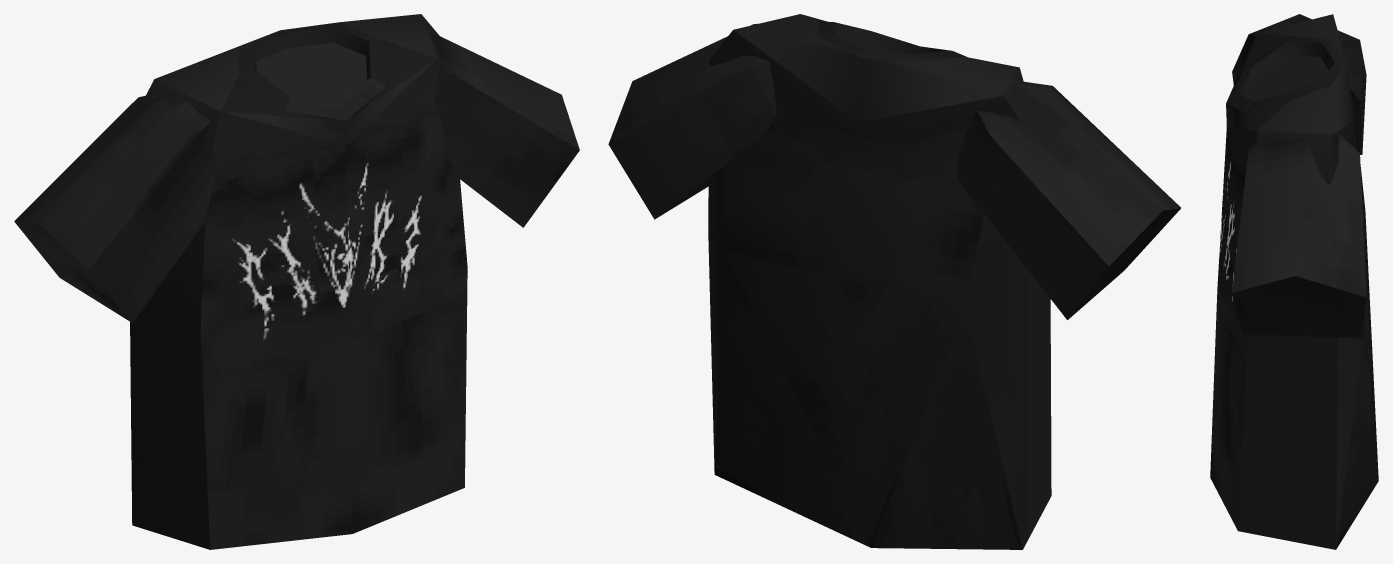
File: glar3shirt.glb
3 views of the same model, side by side, from view 1: azimuth 30°, elevation 25°; view 2: azimuth 150°, elevation 25°; view 3: azimuth 270°, elevation 25° (orthographic). The views are drawn at different scales.
Parts seen in each view (by area): view 1: TMD_object_#6,_VRAM_page_#5.001; view 2: TMD_object_#6,_VRAM_page_#5.001; view 3: TMD_object_#6,_VRAM_page_#5.001.
Part boxes in pixels (x1,y1,x2,y2): TMD_object_#6,_VRAM_page_#5.001: (14, 14, 579, 549); TMD_object_#6,_VRAM_page_#5.001: (608, 14, 1180, 549); TMD_object_#6,_VRAM_page_#5.001: (1210, 14, 1378, 549).
Bounding box in the file's own units: 2.91 × 2.48 × 0.8773.
1 material, 1 textured.
